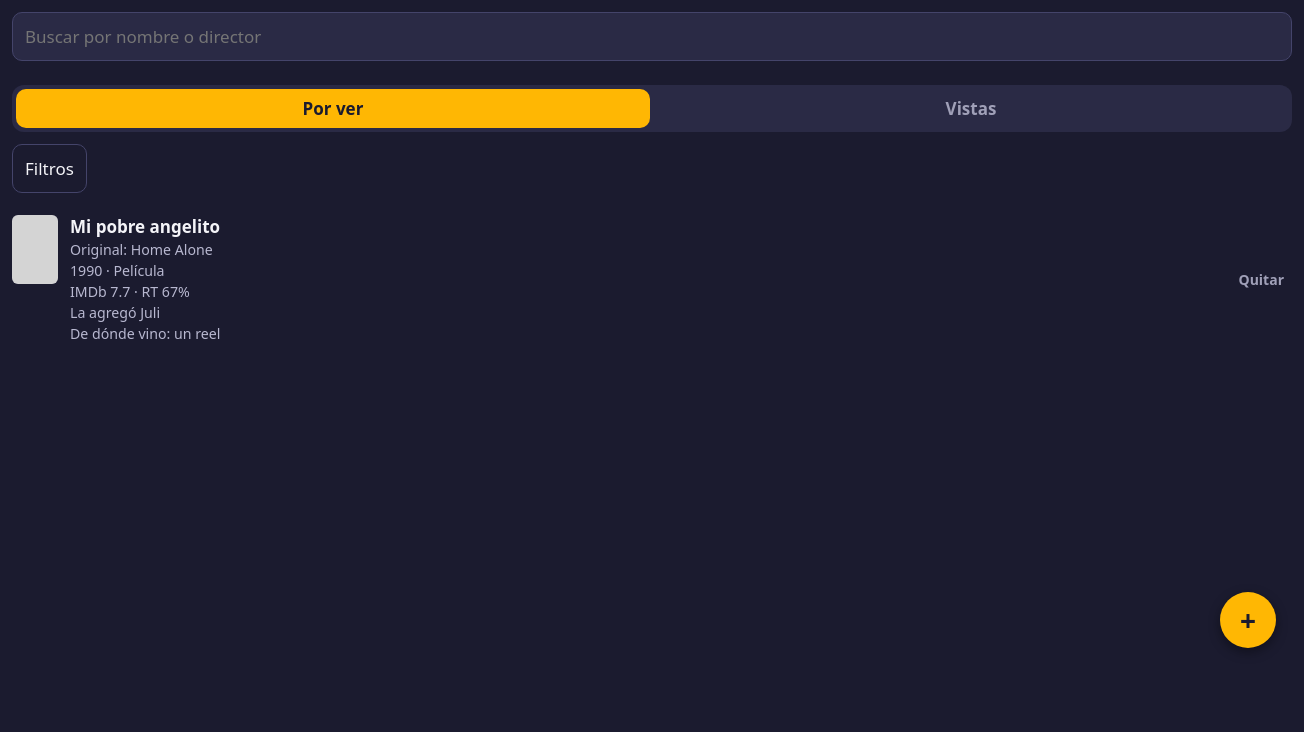
Test: a failed removal shows its message
Click the button named "Quitar Mi pobre angelito" at coordinates (1261, 279), box [1230,262,1292,296]
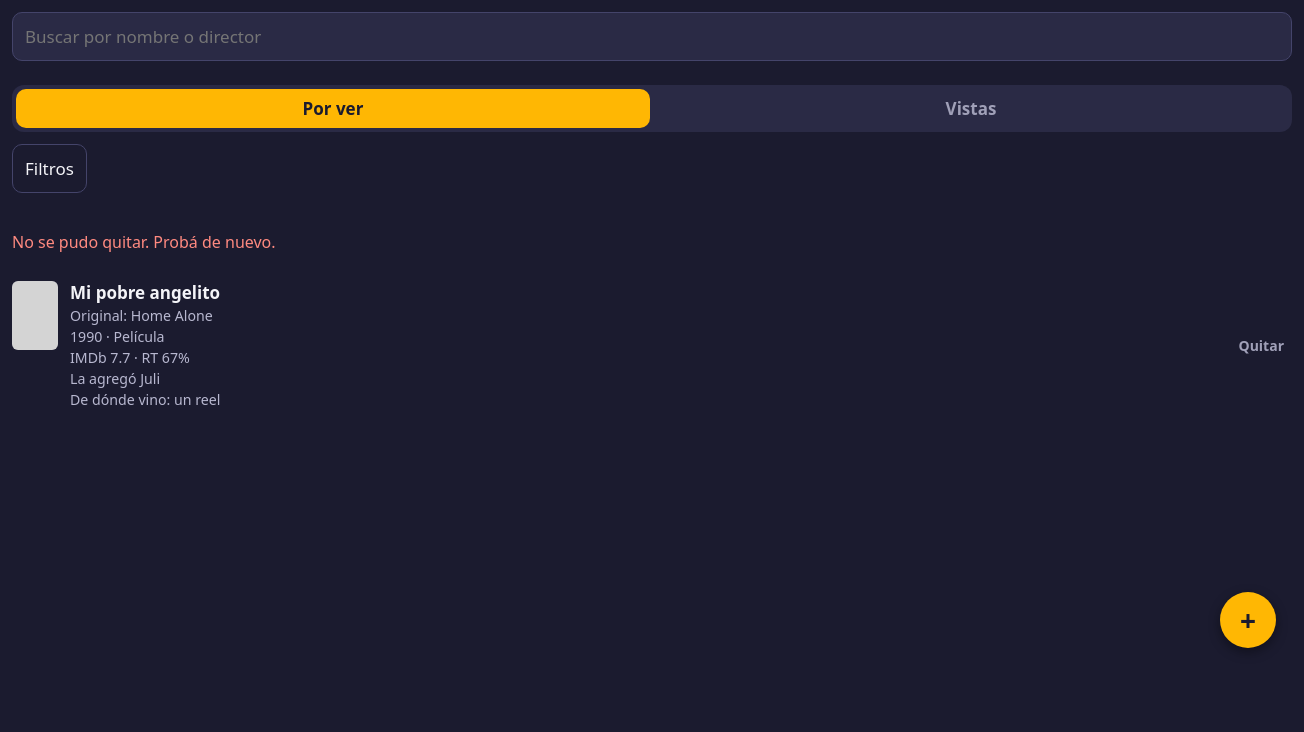
Check: the text "No se pudo quitar. Probá de nuevo." is shown, box [12,231,276,253]
